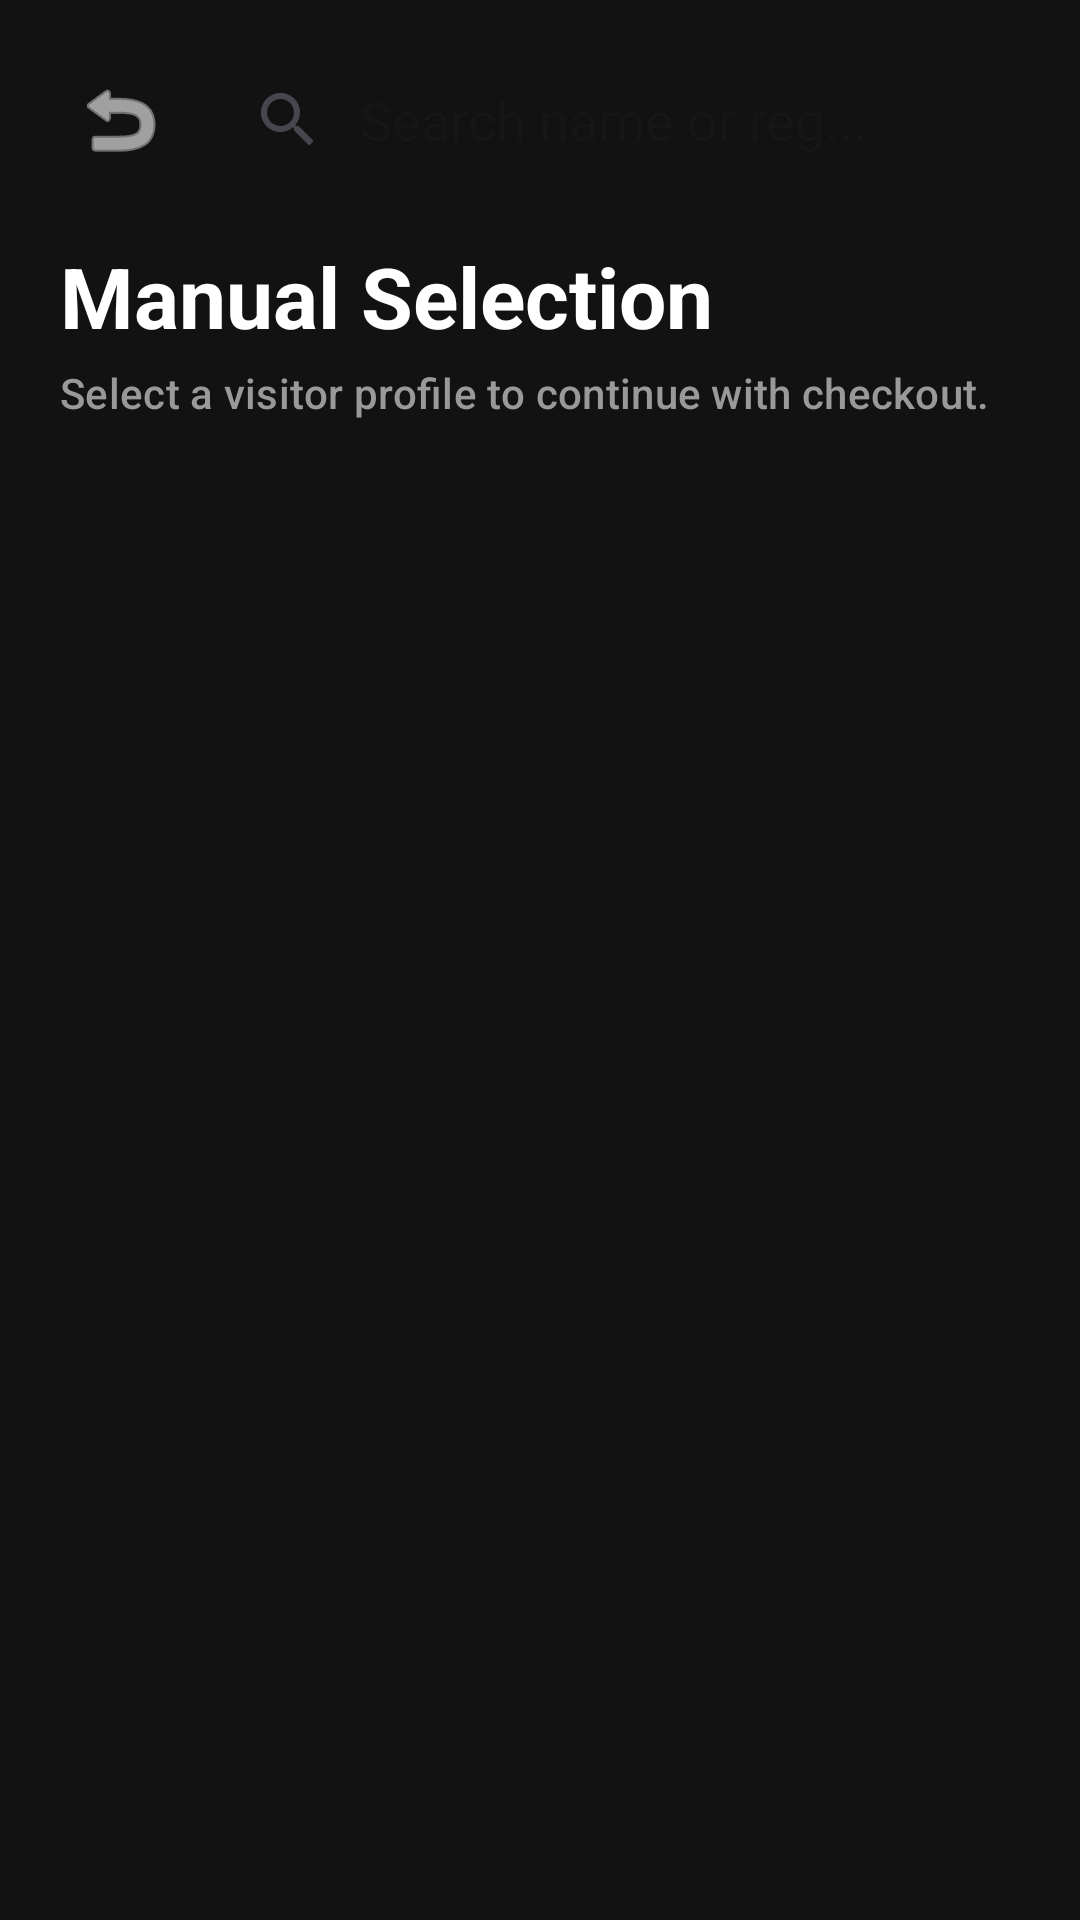

Named icons in this screenshot (1080×1920) and their bounding boxes, (x1, y1, x2, y2):
Back: (87, 89, 156, 152)
